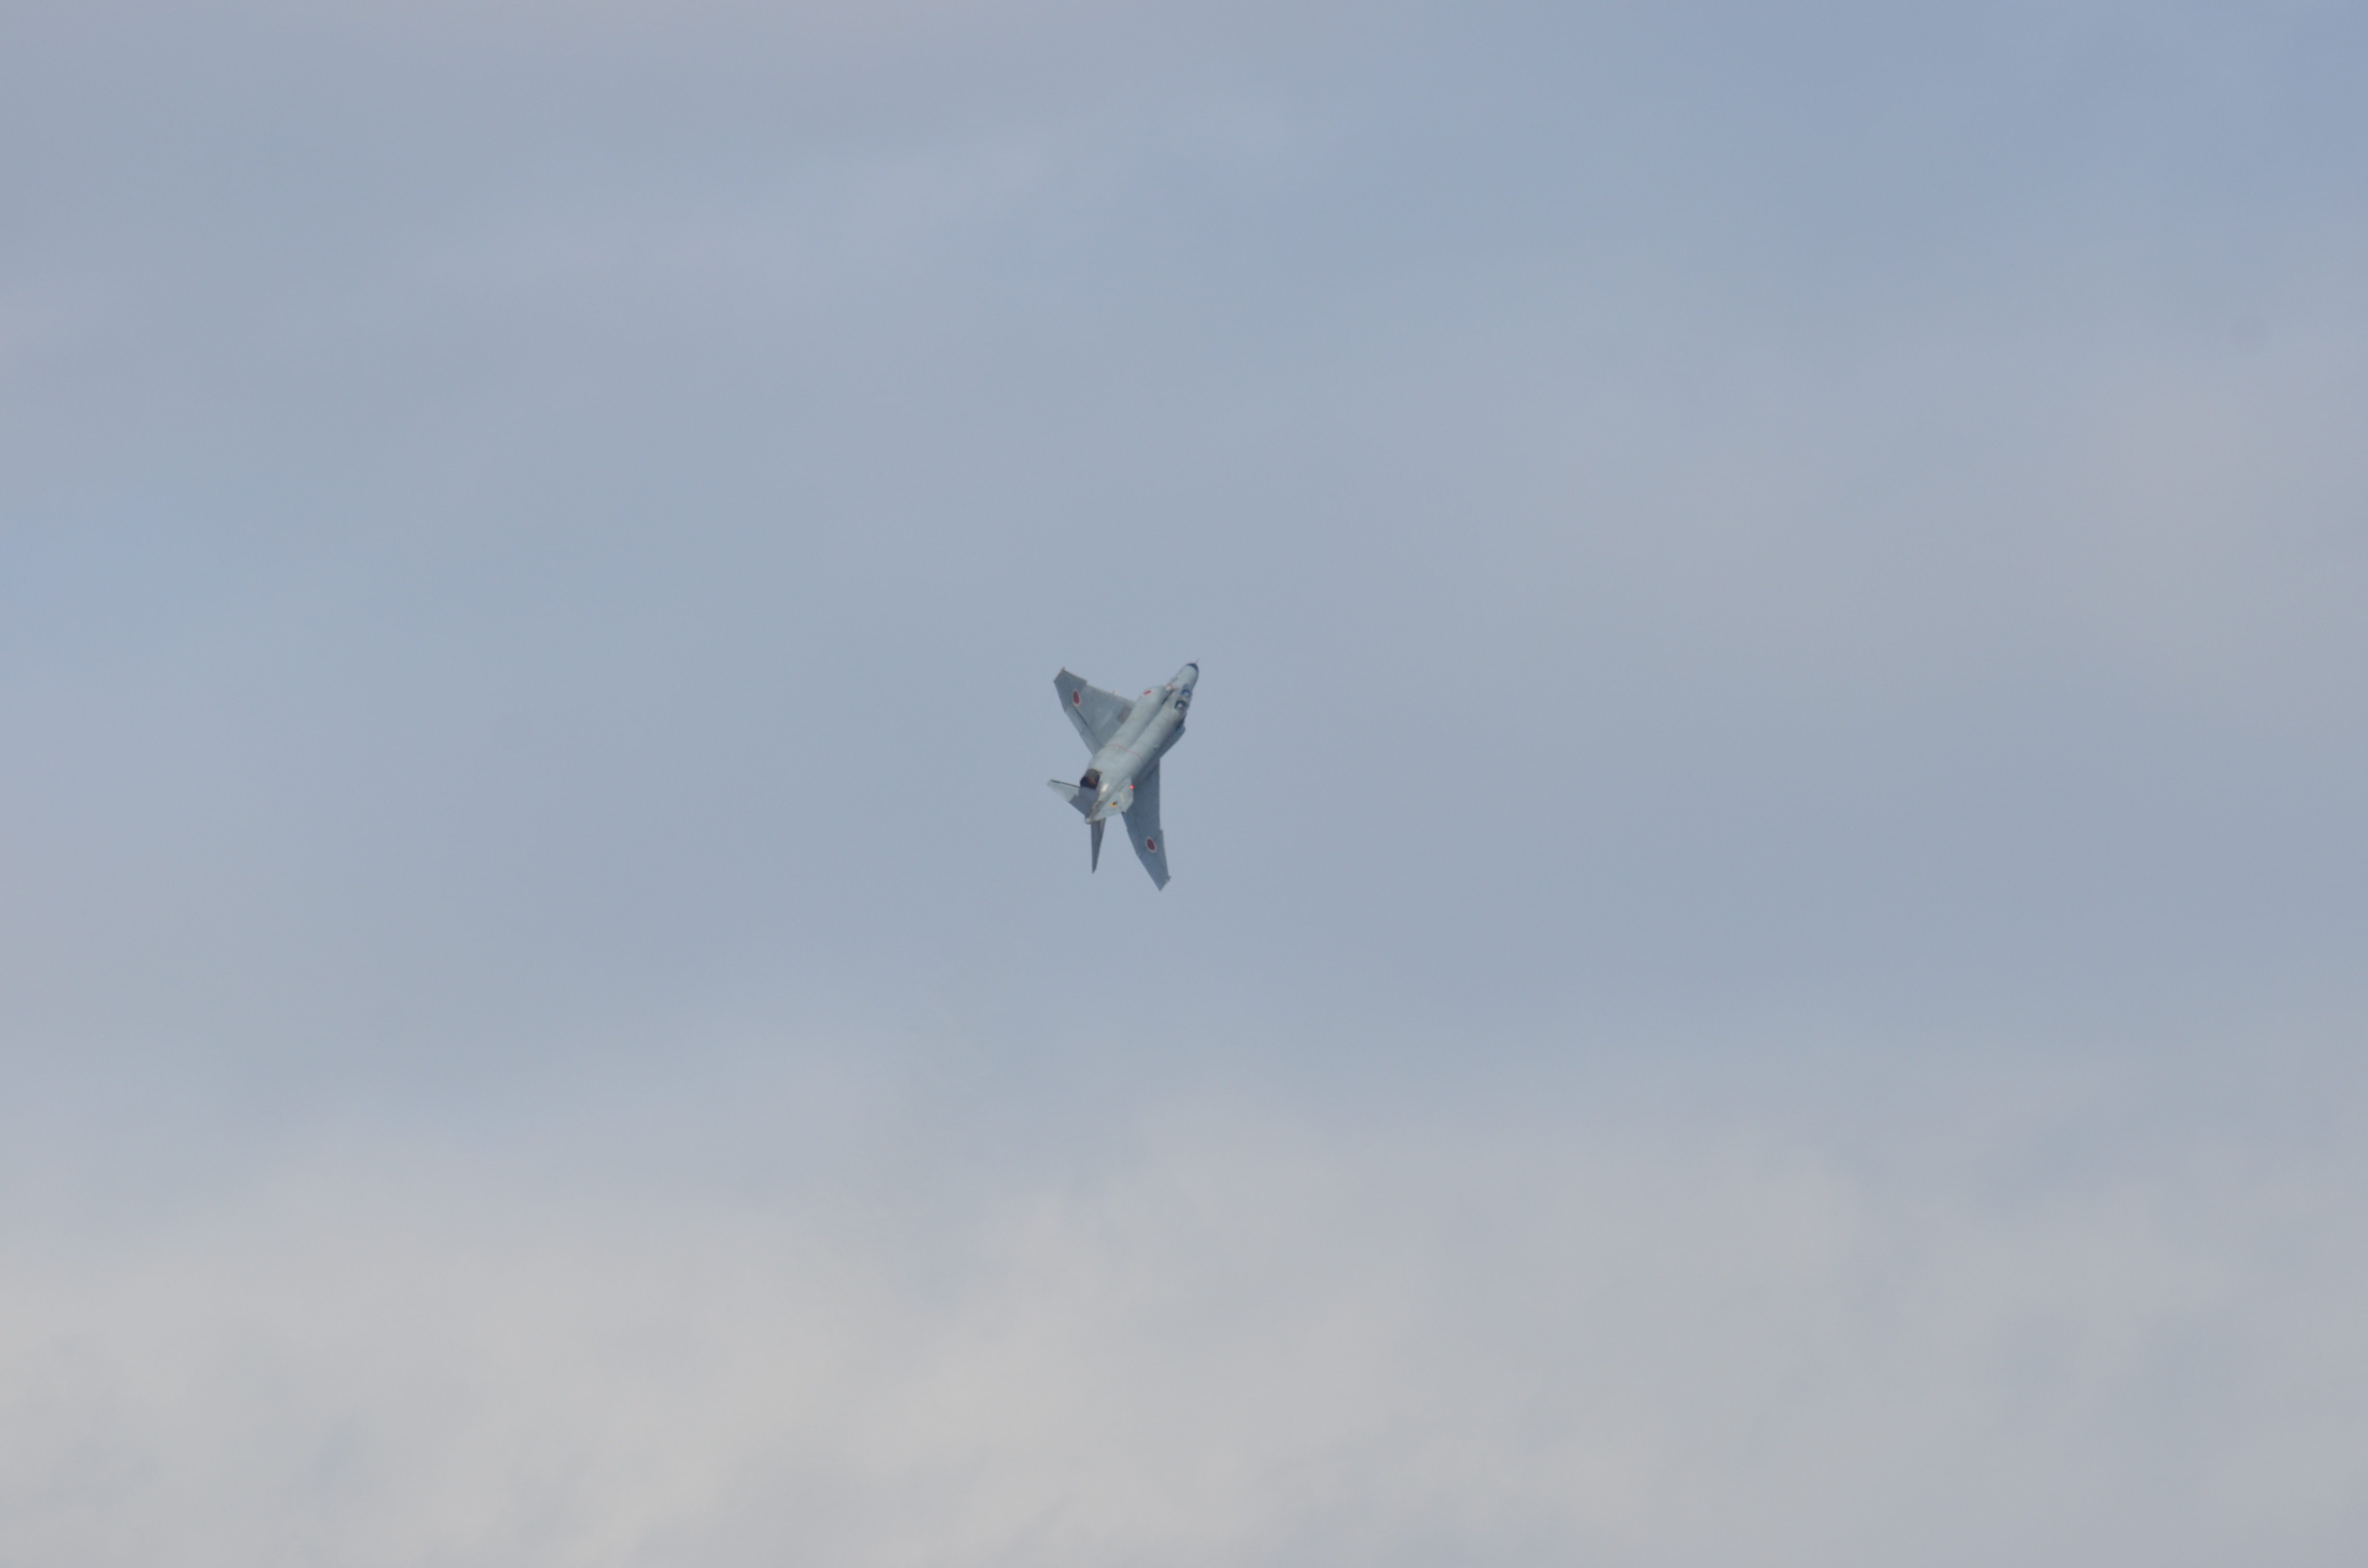F4: (1045, 654, 1201, 892)
